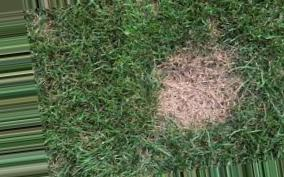patch: (197, 63, 245, 130), (152, 84, 186, 129), (155, 51, 191, 76)
